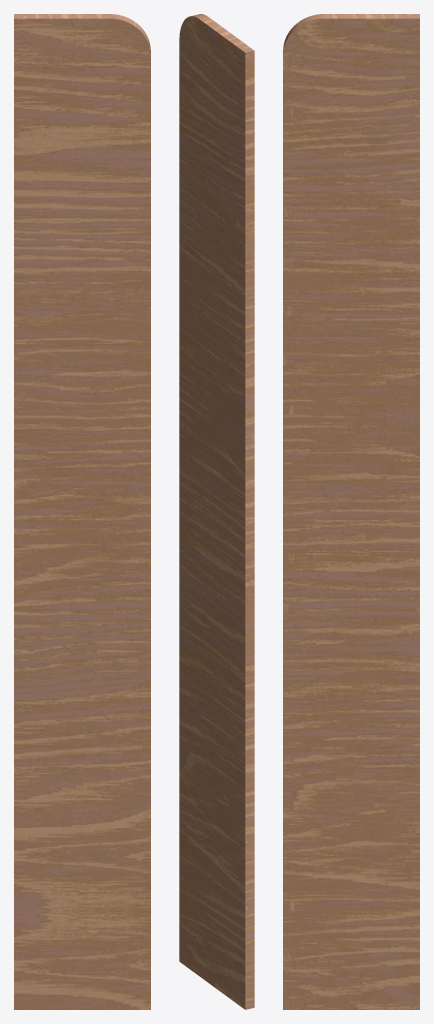
The model's file is Support_020-transformed.glb.
3 views of the same model, side by side, from view 1: azimuth 90°, elevation 25°; view 2: azimuth 210°, elevation 25°; view 3: azimuth 270°, elevation 25° (orthographic). The views are drawn at different scales.
Visible parts, largest first — view 1: Main; view 2: Main; view 3: Main.
Part boxes in pixels (x1,y1,x2,y2): Main: [14, 14, 150, 1009]; Main: [179, 14, 254, 1009]; Main: [283, 14, 419, 1009].
Bounding box in the file's own units: 0.02 × 2 × 0.25.
1 material, 1 textured.
